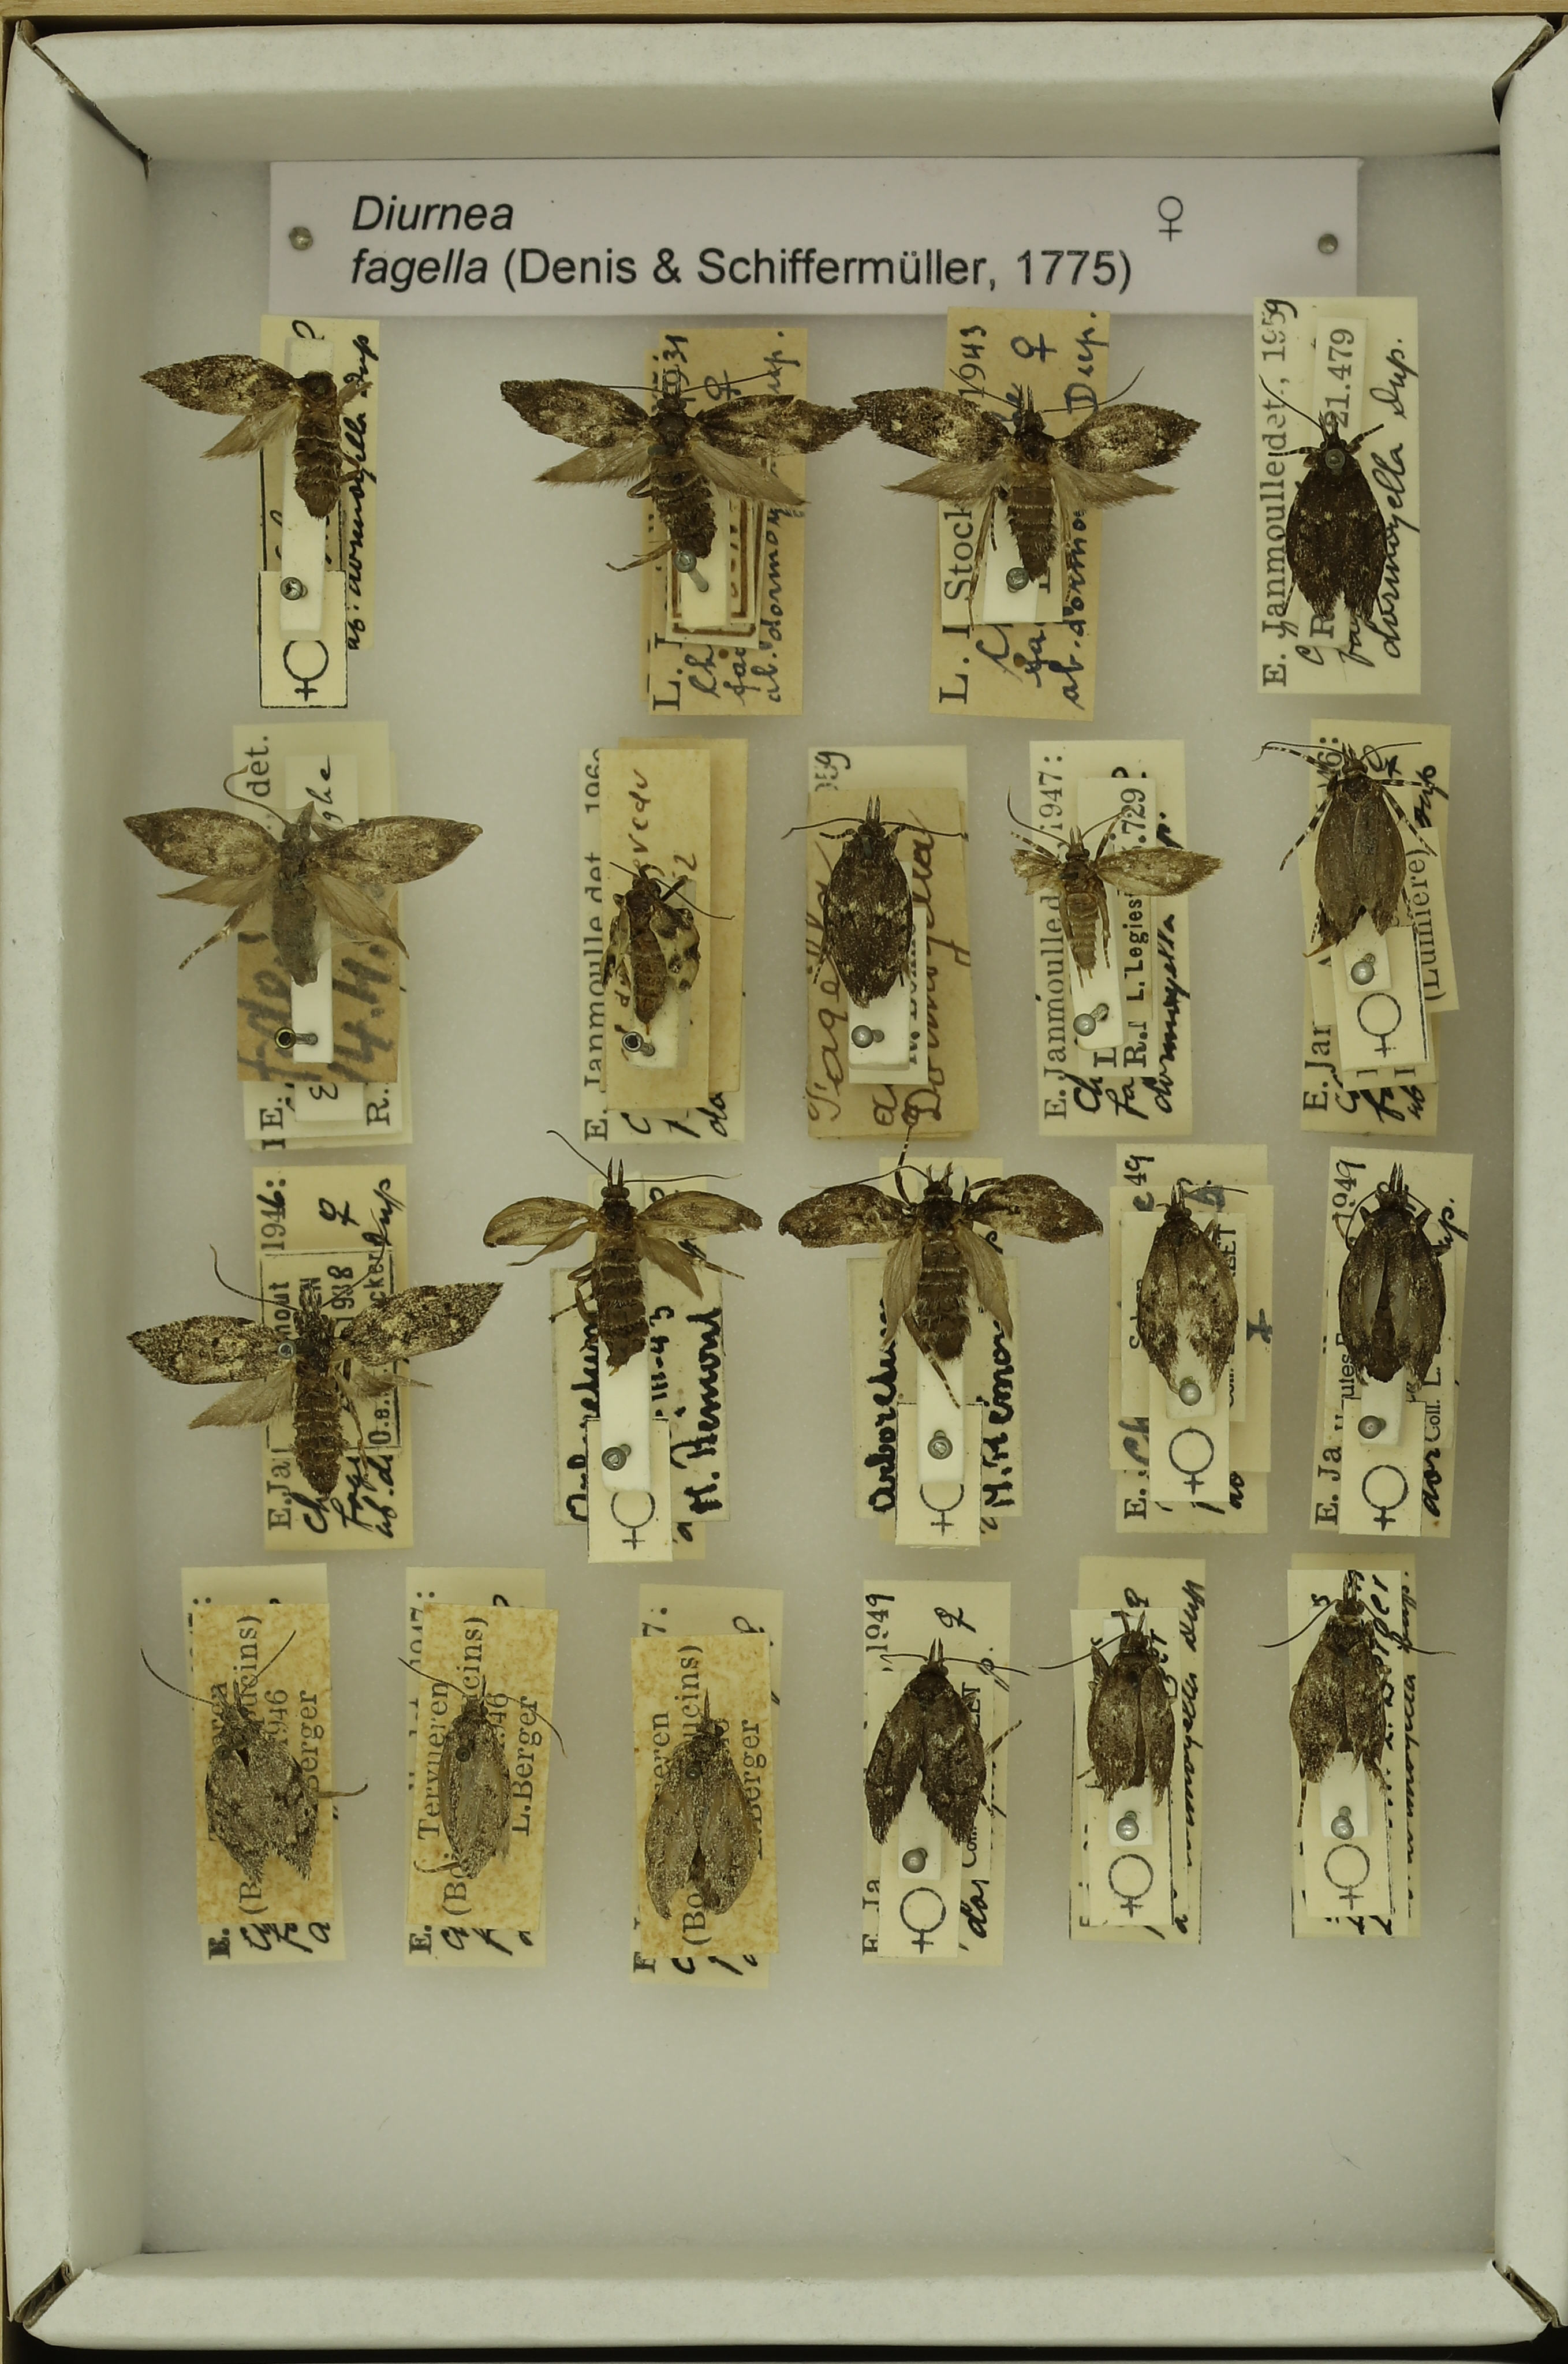insect: (96, 1254, 500, 1511), (826, 361, 1185, 615), (111, 778, 492, 986), (490, 366, 867, 565), (766, 1170, 1100, 1388), (495, 1162, 753, 1383), (148, 1636, 344, 1907), (131, 339, 405, 524), (987, 773, 1223, 974), (783, 801, 979, 1024), (1268, 1578, 1448, 1807), (844, 1629, 1020, 1862), (1235, 386, 1391, 643), (1256, 727, 1426, 958), (621, 1664, 766, 1925), (1047, 1611, 1218, 1829), (1326, 1164, 1456, 1413), (400, 1654, 537, 1877), (1112, 1179, 1248, 1390), (580, 853, 726, 1032)
